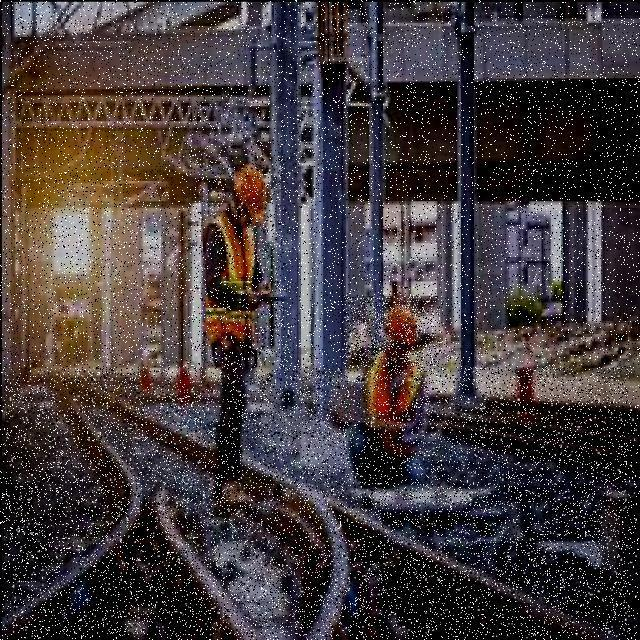danger: (194, 157, 288, 517), (343, 296, 440, 476)
rail: (4, 368, 631, 637)
